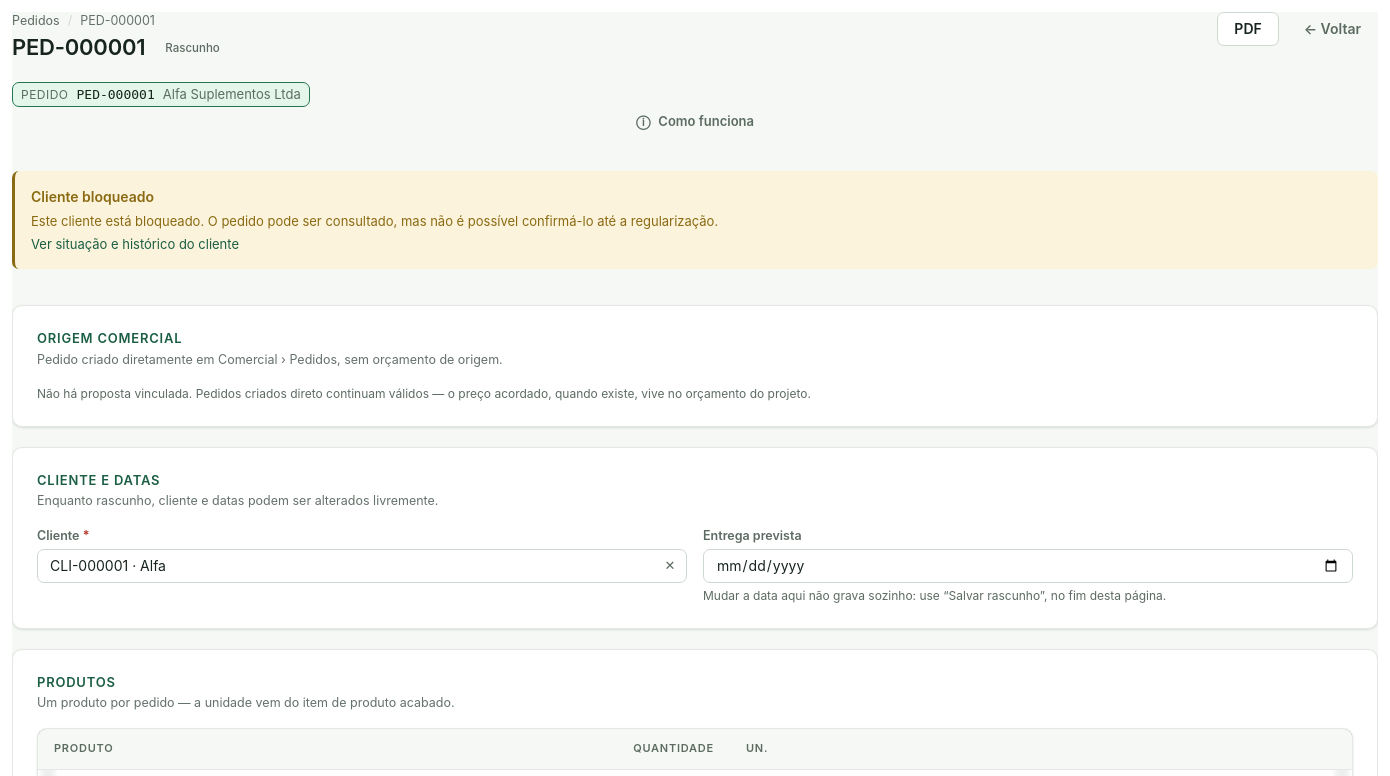
Test case: Pedido — aviso da situação atual do cliente › rascunho sem produtos: a opção do cliente diz 'bloqueado', e trocar por um ativo tira o aviso
Expected: the text "Cliente bloqueado" is shown, [31,188,154,206]
Click the dropdown with id "co-customer". click: (362, 566)
box: [37,549,687,583]
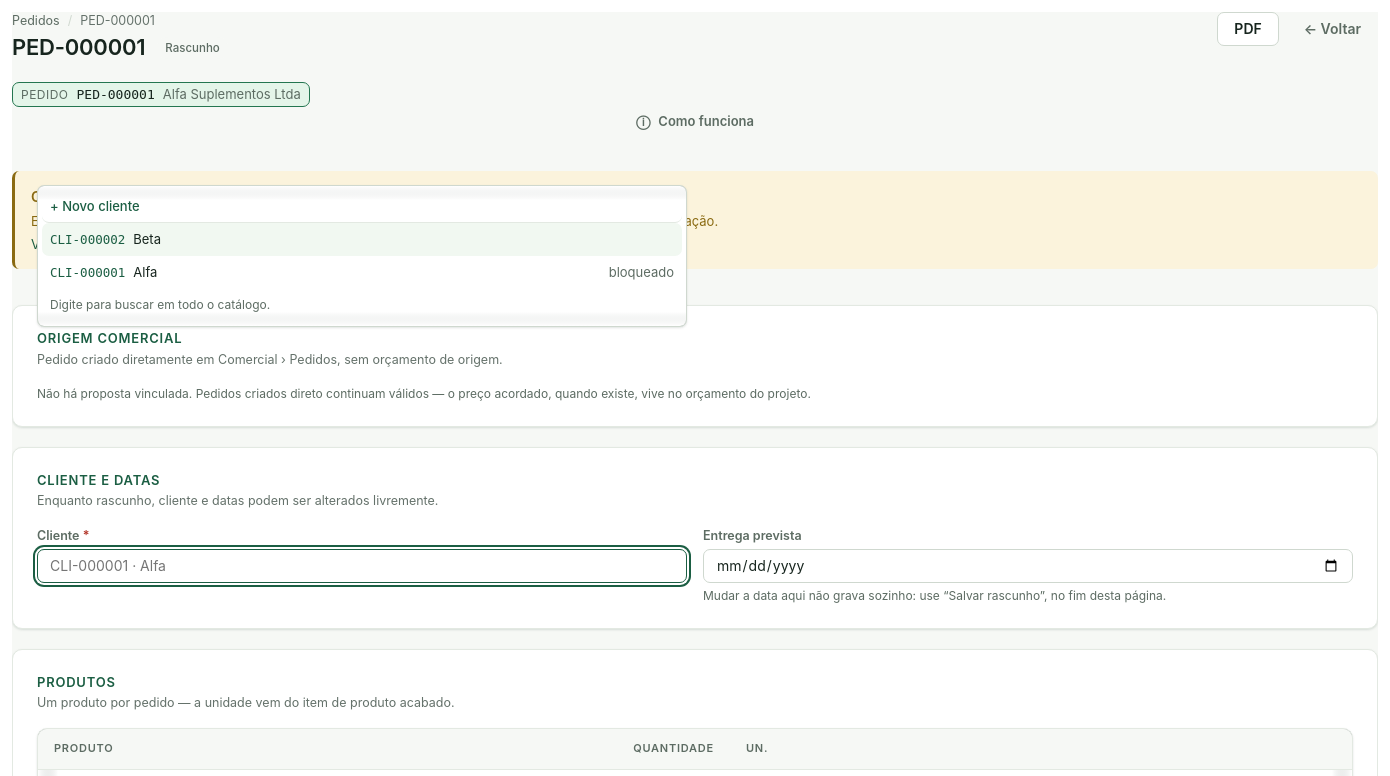
Expected: the text "bloqueado" is shown, [609,264,674,280]
Click the option "CLI-000002 Beta". click: (88, 239)
box: [42,223,682,256]
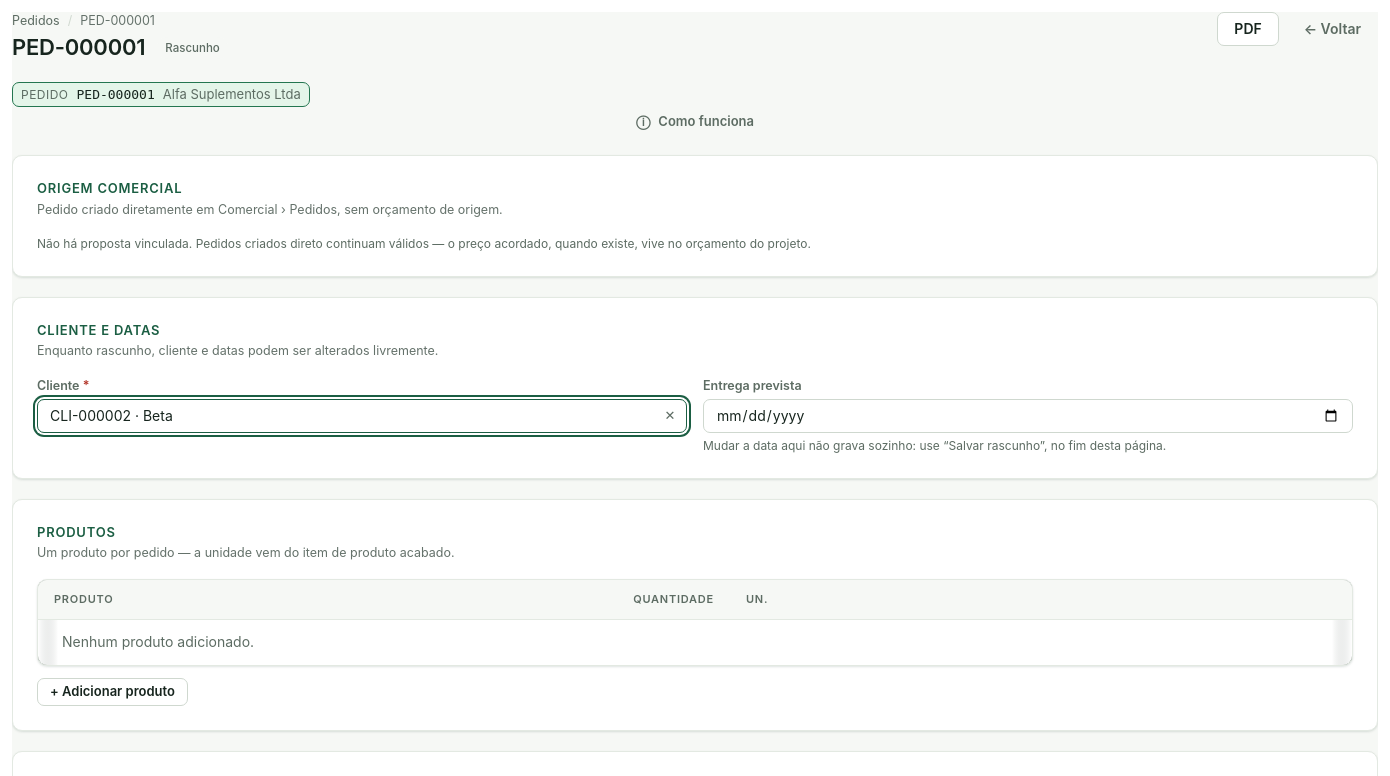
Expected: the text "Cliente bloqueado" is gone
